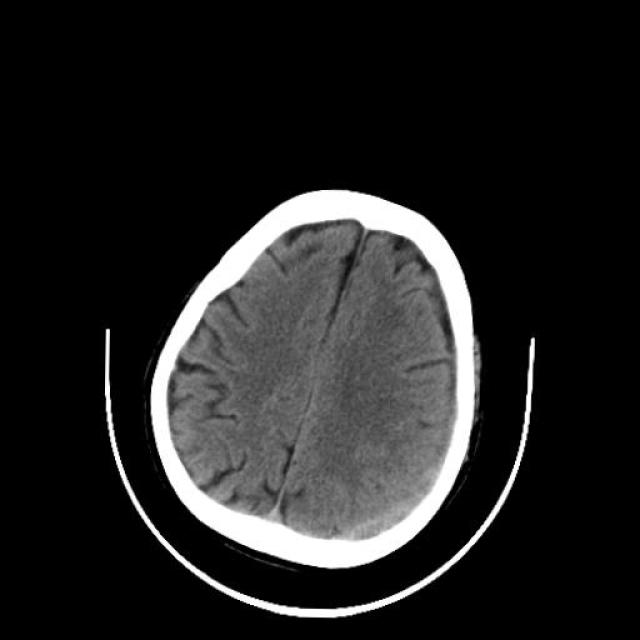Subdural: (330, 415, 464, 554)
